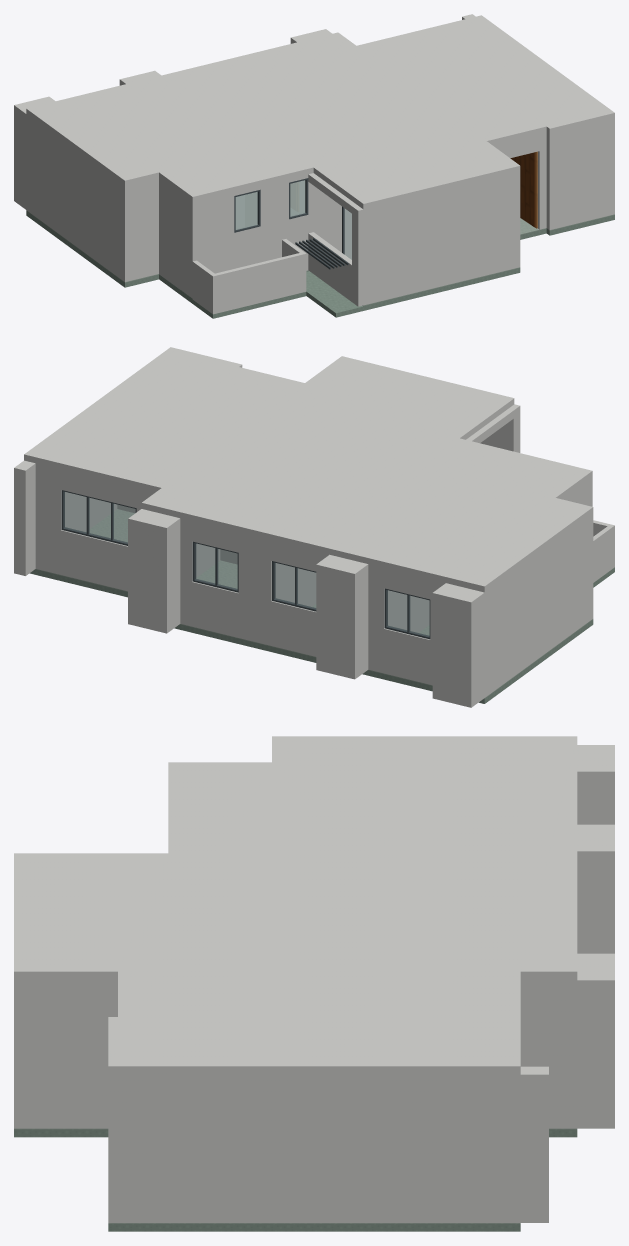
File: Apartment.glb
3 renders of one model, top to bottom at view 1: azimuth 30°, elevation 25°; view 2: azimuth 150°, elevation 25°; view 3: azimuth 270°, elevation 25°, orthographic. The views are drawn at different scales.
Visible parts, largest first — view 1: Ceiling | underside 2600 mm, Kitchen and yard | south structural wall, Main bedroom | outer side, Shelter | south structural wall, Air-con ledge | outer parapet, Main bedroom | south structural return, Bathrooms | east structural wall, Bath 1 | south window wall | solid 10250, Floor slab | finished floor datum Z=0, Bath 2 | south window wall | solid 6850, Bath 1 | south window wall | solid 8780, Facade pier | main bedroom head (+15 smaller); view 2: Ceiling | underside 2600 mm, Main bedroom | outer side, Facade pier | main bedroom head, Facade pier | bedroom 2 head, Facade pier | bedroom 3 head, Living | outer side and fin, W01 | Living | sill wall, Living window wall | solid 300, Floor slab | finished floor datum Z=0, W02 | Bedroom 3 | sill wall, W04 | Main bedroom | sill wall, W03 | Bedroom 2 | sill wall (+27 smaller); view 3: Ceiling | underside 2600 mm, Living | outer side and fin, Shelter | west structural wall, Kitchen | west structural wall, Facade pier | living-bedroom step, Facade pier | bedroom 2 head, Floor slab | finished floor datum Z=0, Facade pier | main bedroom head, Facade pier | bedroom 3 head.
Boxes of the visible parts, box(x1,y1,x2,y2) form: Ceiling | underside 2600 mm: box(26, 15, 614, 209); Kitchen and yard | south structural wall: box(352, 174, 509, 306); Main bedroom | outer side: box(29, 116, 118, 277); Shelter | south structural wall: box(546, 121, 604, 229); Air-con ledge | outer parapet: box(210, 252, 306, 314); Main bedroom | south structural return: box(118, 178, 158, 281); Bathrooms | east structural wall: box(159, 178, 203, 297); Bath 1 | south window wall | solid 10250: box(203, 192, 234, 273); Floor slab | finished floor datum Z=0: box(26, 211, 614, 310); Bath 2 | south window wall | solid 6850: box(308, 182, 351, 259); Bath 1 | south window wall | solid 8780: box(260, 180, 285, 262); Facade pier | main bedroom head: box(14, 96, 55, 211); Ceiling | underside 2600 mm: box(24, 347, 593, 592); Main bedroom | outer side: box(488, 518, 586, 695); Facade pier | main bedroom head: box(432, 583, 487, 707); Facade pier | bedroom 2 head: box(316, 554, 368, 679); Facade pier | bedroom 3 head: box(139, 511, 180, 633); Living | outer side and fin: box(14, 460, 117, 575); W01 | Living | sill wall: box(61, 530, 127, 591); Living window wall | solid 300: box(35, 463, 61, 574); Floor slab | finished floor datum Z=0: box(29, 569, 593, 703); W02 | Bedroom 3 | sill wall: box(192, 581, 238, 637); W04 | Main bedroom | sill wall: box(384, 628, 430, 684); W03 | Bedroom 2 | sill wall: box(271, 601, 316, 656); Ceiling | underside 2600 mm: box(14, 736, 577, 1074); Living | outer side and fin: box(291, 1066, 548, 1222); Shelter | west structural wall: box(108, 1074, 290, 1222); Kitchen | west structural wall: box(14, 980, 117, 1128); Facade pier | living-bedroom step: box(520, 972, 614, 1128); Facade pier | bedroom 2 head: box(577, 824, 614, 953); Floor slab | finished floor datum Z=0: box(14, 1129, 577, 1231); Facade pier | main bedroom head: box(577, 745, 614, 824); Facade pier | bedroom 3 head: box(577, 953, 614, 972).
Size of the model in its own units: 12.4 by 2.9 by 9.55.
Materials: 12 (8 with a texture image).
